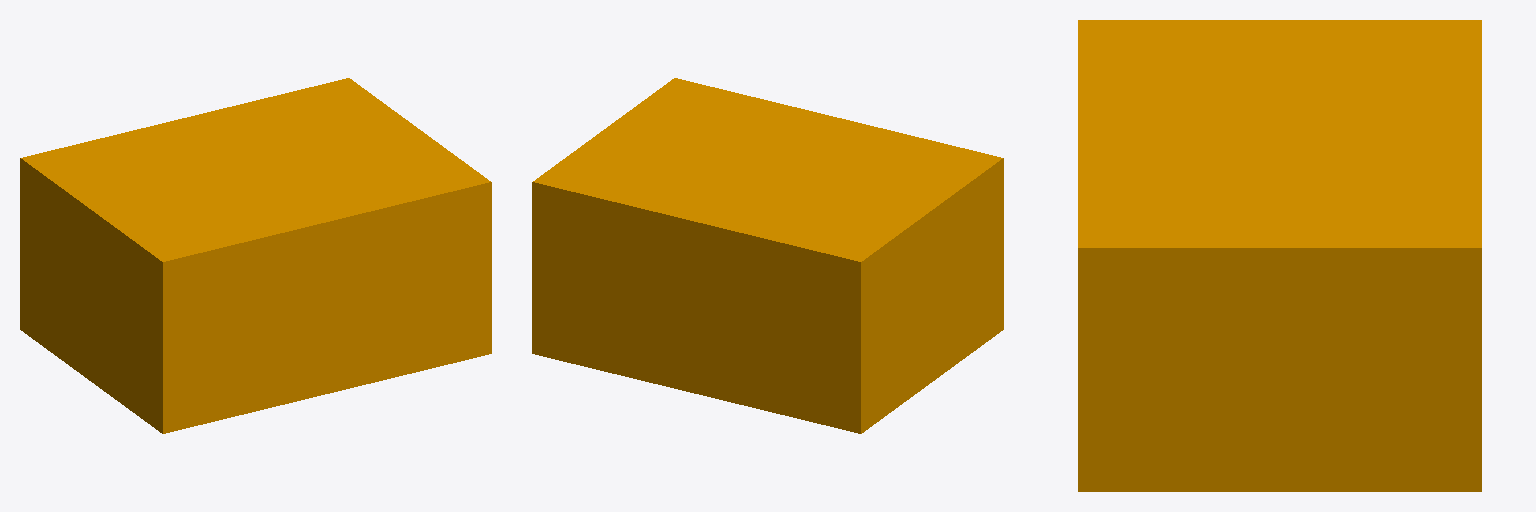
The robot description file, URDF, robot "2x2":
<?xml version='1.0' encoding='UTF-8'?>
<robot name="2x2">
  <link name="base_link">
    <inertial>
      <origin xyz="0.0 0.0 0.0" rpy="0.0 0.0 0.0"/>
      <mass value="0.01"/>
      <inertia ixx="0.1" ixy="0.0" ixz="0.0" iyy="0.1" iyz="0.0" izz="0.1"/>
    </inertial>
    <visual>
      <geometry>
        <box size="0.024 0.018 0.012"/>
      </geometry>
      <material name=""/>
      <origin xyz="0.0 0.0 0.0" rpy="0.0 0.0 0.0"/>
    </visual>
    <collision>
      <geometry>
        <box size="0.024 0.018 0.012"/>
      </geometry>
      <origin xyz="0.0 0.0 0.0" rpy="0.0 0.0 0.0"/>
    </collision>
  </link>
  <material name="">
    <color rgba="1. 1. 1. 1."/>
  </material>
  <contact>
    <lateral_friction value="1.0"/>
    <rolling_friction value="0.0"/>
    <contact_cfm value="0.0"/>
    <contact_erp value="1.0"/>
  </contact>
</robot>

--- Facts derived from the render (not from the file) ---
3 views of the same robot in one strip: view 1: azimuth 30°, elevation 25°; view 2: azimuth 150°, elevation 25°; view 3: azimuth 270°, elevation 25° (orthographic).
Model 2x2 with 1 links and 0 joints (none), rooted at base_link, posed all joints at 0.
Visible links, largest first — view 1: base_link; view 2: base_link; view 3: base_link.
Boxes of the visible links, left/top/right/bottom form: base_link: left=20, top=78, right=491, bottom=433; base_link: left=532, top=78, right=1003, bottom=433; base_link: left=1078, top=20, right=1481, bottom=491.
Size in the robot's own frame: 0.024 by 0.018 by 0.012 metres.
Geometry: primitives only (box / cylinder / sphere), no mesh files.